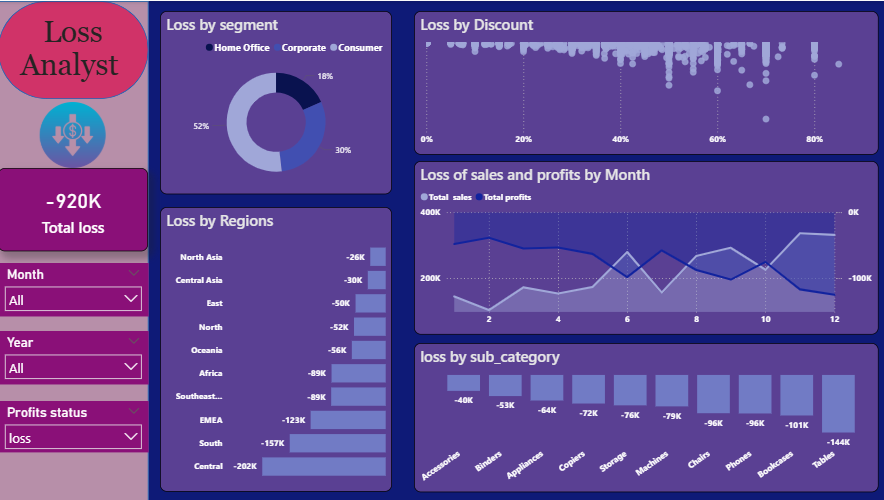

The dashboard page shown, as its layout file describes it:
{"tool":"powerbi","page":{"name":"Page 3","canvas":[1280,720],"ordinal":2},"visuals":[{"type":"areaChart","title":"Loss of sales and profits by Month","fields":{"Category":["Date table.Month"],"Y":["SuperStoreOrders.Total  sales"],"Y2":["SuperStoreOrders.Total profits"]},"box":[599.7,230.1,668.6,250.3],"z":0},{"type":"scatterChart","title":"Loss by Discount ","fields":{"Category":["SuperStoreOrders.order_id"],"X":["Avg(SuperStoreOrders.discount)"],"Y":["Sum(SuperStoreOrders.profit)"]},"box":[599.7,15.1,668.6,207],"z":1000},{"type":"shape","box":[0,0,216.7,720.6],"z":2000},{"type":"card","fields":{"Values":["SuperStoreOrders.Total loss"]},"box":[0,240.5,216,119.5],"z":3000},{"type":"shape","box":[0,0,216.7,141.1],"z":4000},{"type":"textbox","box":[23.5,15.1,169.7,126],"z":5000},{"type":"slicer","fields":{"Values":["Date table.Month"]},"box":[0,378,216.7,77.3],"z":6000},{"type":"slicer","fields":{"Values":["Date table.Year"]},"box":[0,475.4,216.7,77.3],"z":7000},{"type":"slicer","fields":{"Values":["SuperStoreOrders.Profits status"]},"box":[0,576.2,216.7,73.9],"z":8000},{"type":"donutChart","title":"Loss by segment","fields":{"Category":["SuperStoreOrders.segment"],"Y":["Sum(SuperStoreOrders.profit)"]},"box":[233.5,15.1,334.3,263.7],"z":9000},{"type":"clusteredBarChart","title":"Loss by Regions ","fields":{"Category":["SuperStoreOrders.region"],"Y":["Sum(SuperStoreOrders.profit)"]},"box":[233.5,297.3,334.3,409.9],"z":10000},{"type":"clusteredColumnChart","title":"loss by sub_category","fields":{"Category":["SuperStoreOrders.sub_category"],"Y":["SuperStoreOrders.Total loss"]},"box":[599.7,492.2,668.6,215],"z":11000},{"type":"image","box":[23,145.4,169.9,95],"z":12000}]}

Visuals, with their boxes in screenshot pixels (x1, y1, x2, y2), scaled from the page's 1280x720 canvas onto the 884x500 screenshot:
"Loss of sales and profits by Month" areaChart: <bbox>414, 160, 876, 334</bbox>
"Loss by Discount " scatterChart: <bbox>414, 10, 876, 154</bbox>
shape: <bbox>0, 0, 150, 499</bbox>
card - SuperStoreOrders.Total loss: <bbox>0, 167, 149, 250</bbox>
shape: <bbox>0, 0, 150, 98</bbox>
textbox: <bbox>16, 10, 133, 98</bbox>
slicer - Date table.Month: <bbox>0, 262, 150, 316</bbox>
slicer - Date table.Year: <bbox>0, 330, 150, 384</bbox>
slicer - SuperStoreOrders.Profits status: <bbox>0, 400, 150, 451</bbox>
"Loss by segment" donutChart: <bbox>161, 10, 392, 194</bbox>
"Loss by Regions " clusteredBarChart: <bbox>161, 206, 392, 491</bbox>
"loss by sub_category" clusteredColumnChart: <bbox>414, 342, 876, 491</bbox>
image: <bbox>16, 101, 133, 167</bbox>
